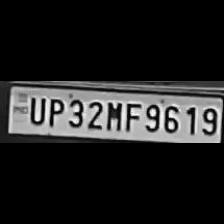1: (180, 104, 198, 136)
2: (84, 98, 104, 130)
3: (64, 96, 84, 128)
6: (160, 102, 180, 136)
9: (198, 104, 218, 138), (142, 100, 160, 132)
F: (122, 98, 140, 132)
M: (105, 99, 123, 131)
P: (45, 95, 63, 127)
U: (26, 94, 44, 125)
